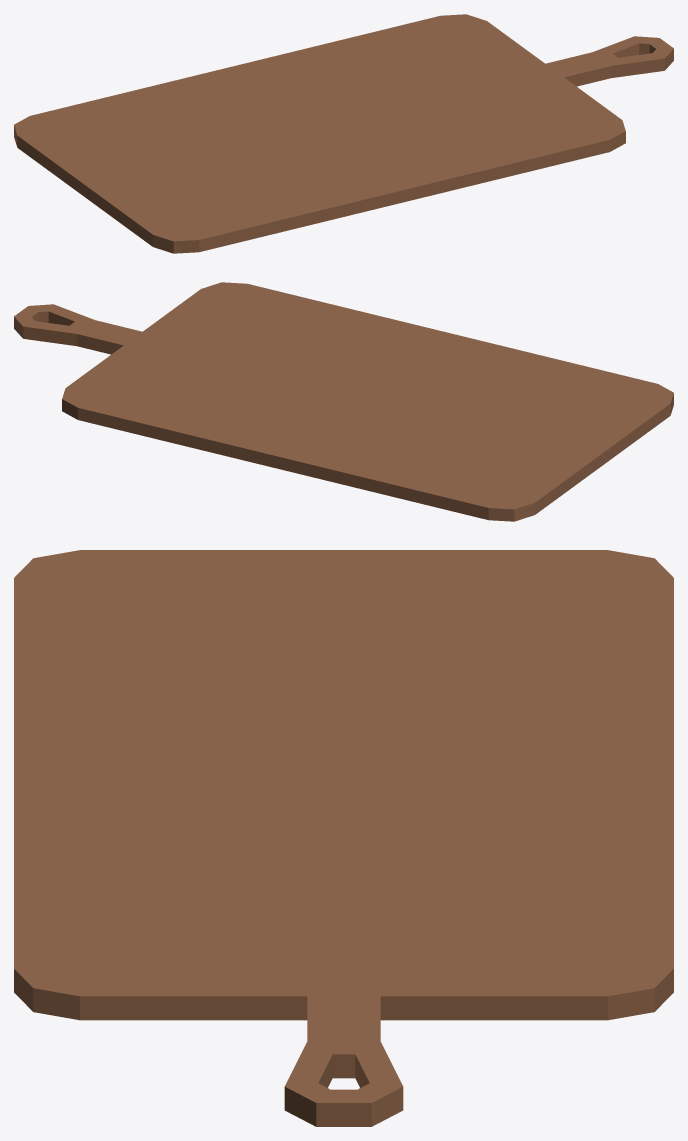
Rendered from CuttingBoard_04.fbx.
3 renders of one model, top to bottom at view 1: azimuth 30°, elevation 25°; view 2: azimuth 150°, elevation 25°; view 3: azimuth 270°, elevation 25°, orthographic. The views are drawn at different scales.
Visible parts, largest first — view 1: CuttingBoard_04; view 2: CuttingBoard_04; view 3: CuttingBoard_04.
Boxes of the visible parts, x1,y1,x2,y2 form: CuttingBoard_04: (14, 14, 673, 253); CuttingBoard_04: (14, 282, 673, 521); CuttingBoard_04: (14, 550, 673, 1126).
Size of the model in its own units: 49.55 by 1 by 25.
